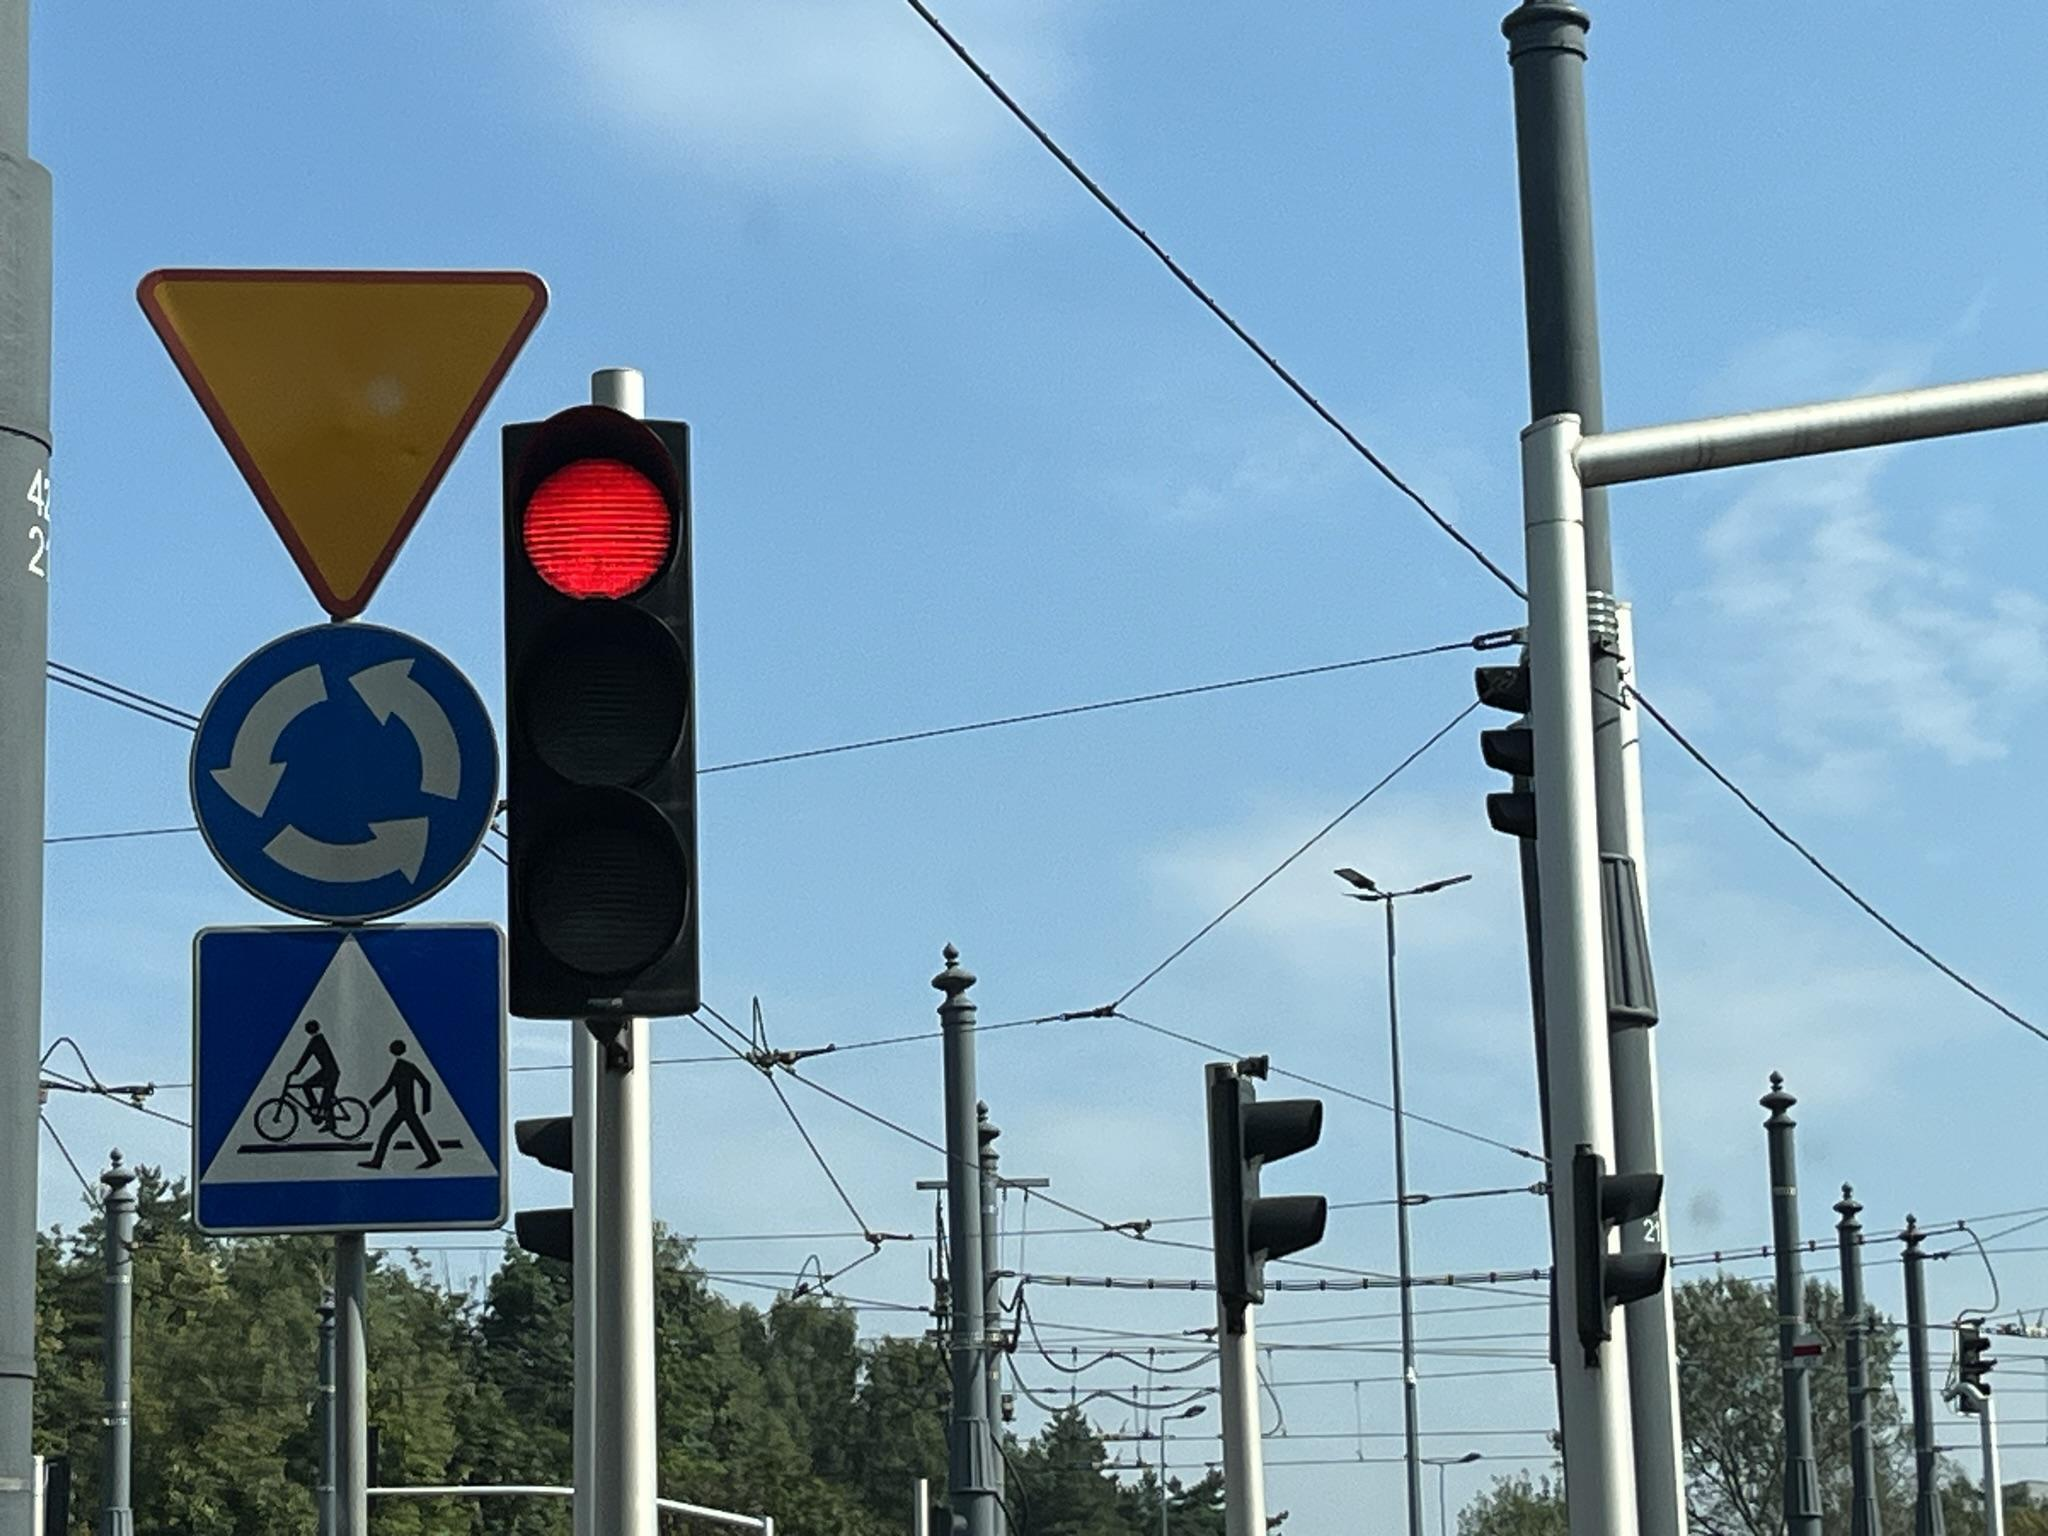information: (197, 929, 506, 1225)
mandatory: (189, 620, 500, 921)
warning: (134, 265, 552, 616)
